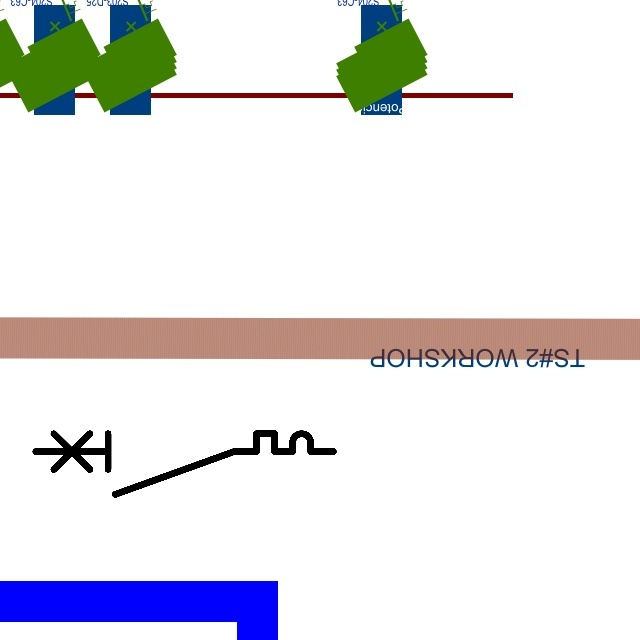interruptor_termomagnetico: (28, 426, 341, 502)
